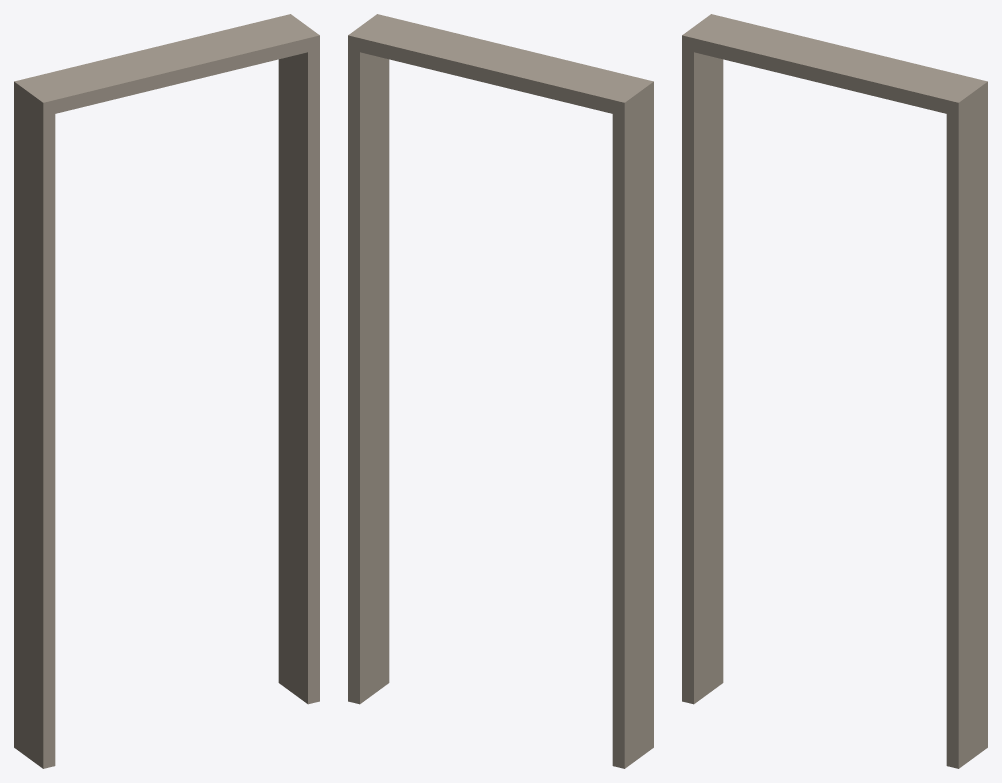
Rendered from SM_Door_Bedroom_Frame.fbx.
The picture shows the model from 3 angles, left to right: view 1: azimuth 30°, elevation 25°; view 2: azimuth 150°, elevation 25°; view 3: azimuth 330°, elevation 25°; orthographic projection.
Visible parts, largest first — view 1: SM_Door_Bedroom_Frame; view 2: SM_Door_Bedroom_Frame; view 3: SM_Door_Bedroom_Frame.
Boxes of the visible parts, bbox=[...] form: SM_Door_Bedroom_Frame: bbox=[14, 14, 319, 768]; SM_Door_Bedroom_Frame: bbox=[348, 14, 653, 768]; SM_Door_Bedroom_Frame: bbox=[682, 14, 987, 768].
Bounding box in the file's own units: 93 × 214 × 17.
